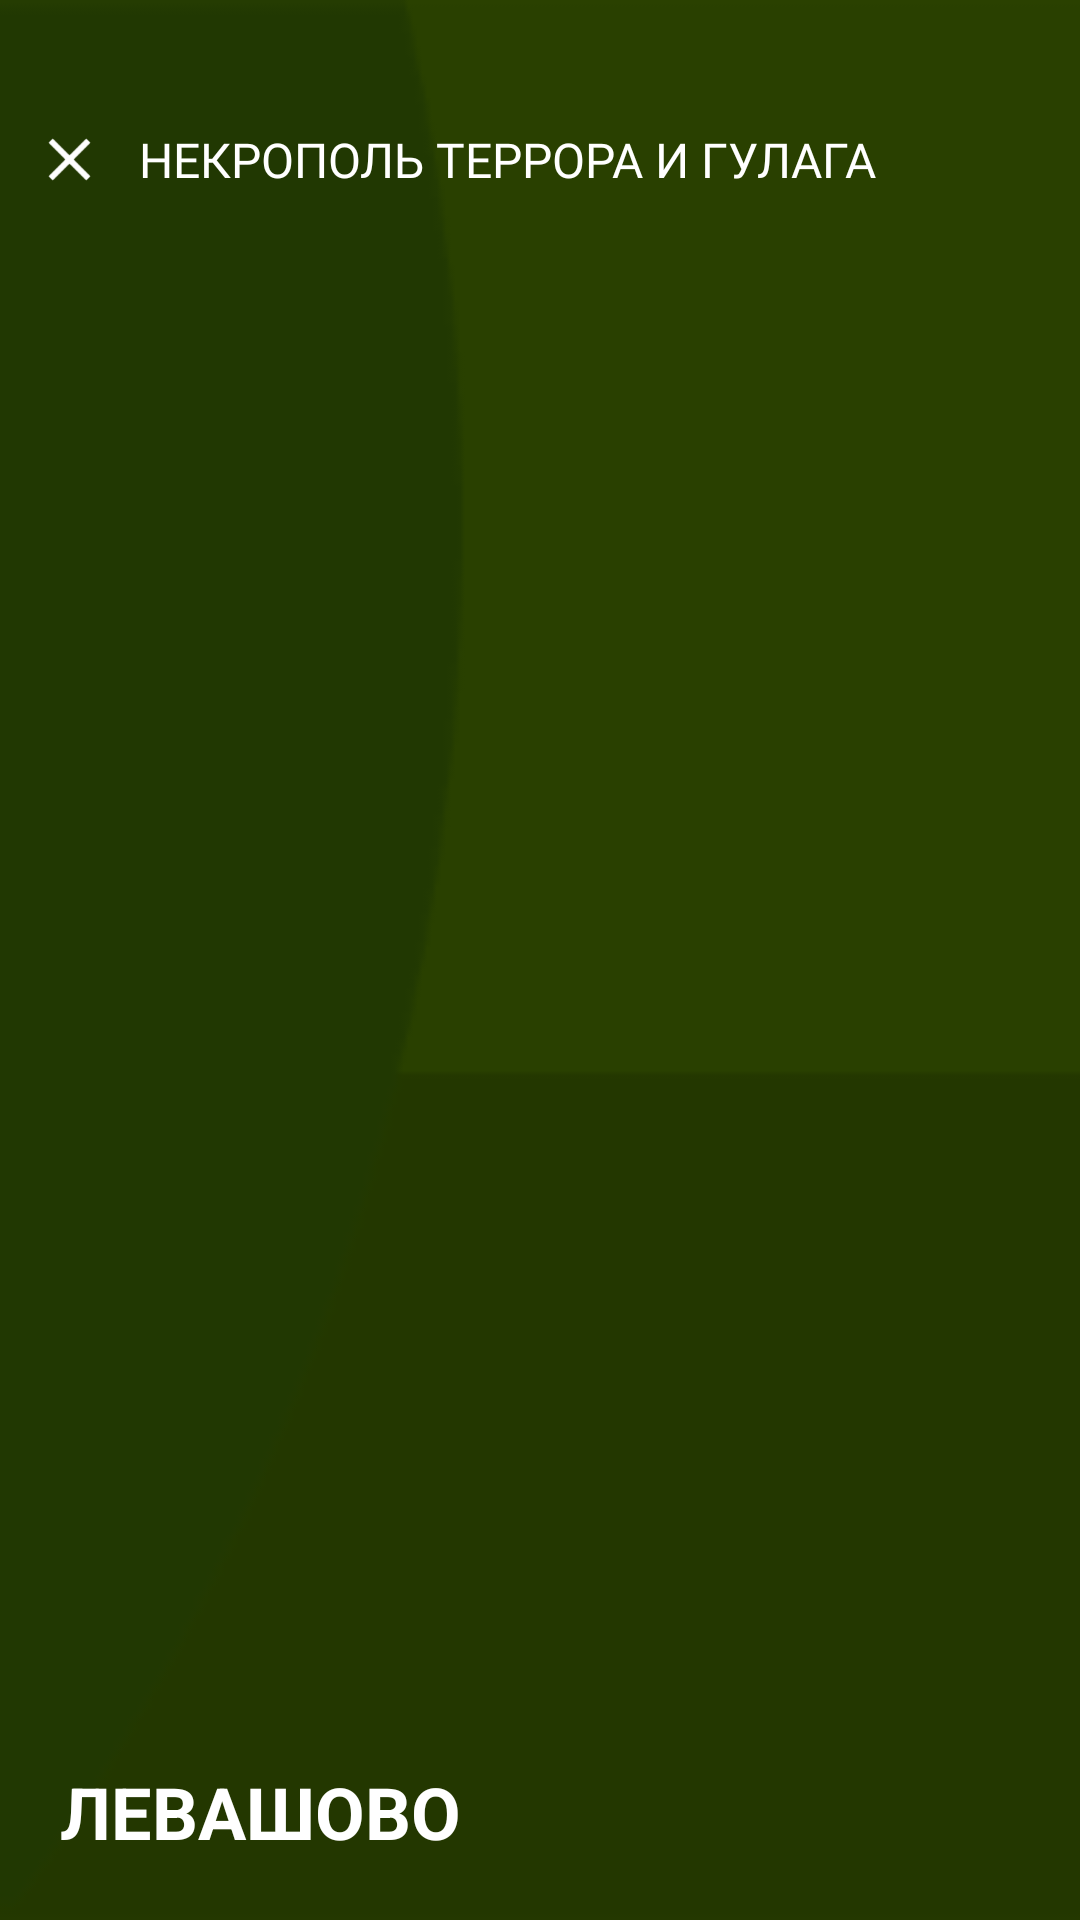

Locate icon controls on the screen. Image size 1080px×1920px, boxes as (x1, y1, x2, y2).
close: (48, 138, 91, 181)
